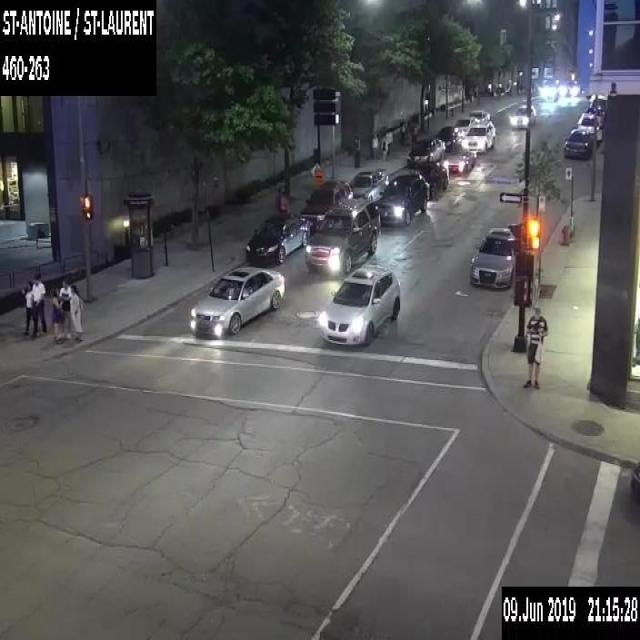construction: (310, 161, 320, 189), (314, 169, 324, 184)
pedestrian: (522, 306, 549, 390), (31, 273, 47, 335), (68, 284, 83, 342), (58, 278, 72, 335), (21, 281, 35, 335), (50, 286, 63, 343), (371, 131, 378, 161), (380, 135, 387, 161), (274, 187, 281, 212), (279, 191, 287, 211), (411, 122, 416, 144)
vehicle: (190, 264, 284, 339), (320, 263, 400, 345), (304, 199, 380, 272), (244, 212, 309, 263), (469, 224, 515, 291), (298, 178, 352, 232), (377, 172, 428, 225), (408, 161, 448, 198), (348, 168, 389, 202), (406, 136, 444, 168), (461, 118, 495, 152), (562, 127, 592, 158), (444, 143, 474, 172), (577, 111, 602, 140), (511, 103, 535, 129), (434, 125, 458, 151), (454, 116, 476, 139), (588, 92, 607, 115), (585, 105, 604, 127), (630, 460, 639, 504), (468, 109, 489, 122), (543, 86, 557, 100)
